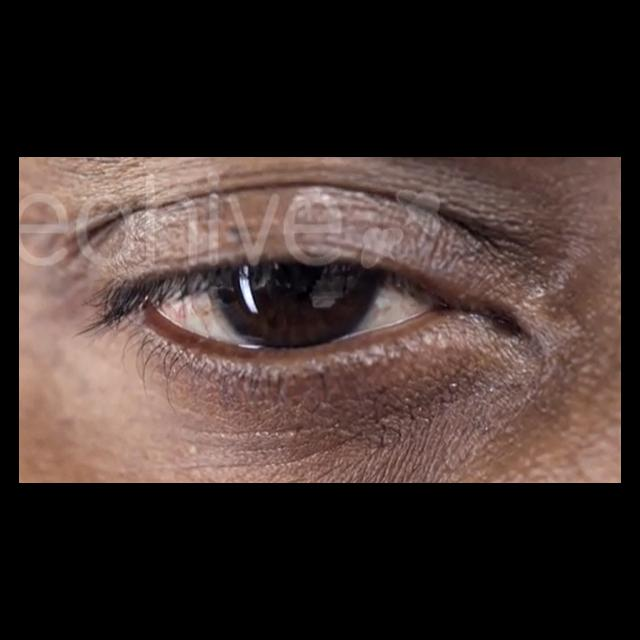eye: (147, 258, 435, 352)
iris: (219, 264, 383, 346)
